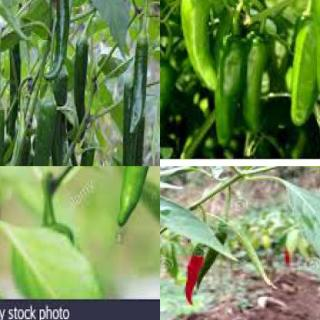green_chilli: (176, 0, 218, 92), (287, 18, 320, 125), (215, 41, 248, 148), (238, 38, 272, 132), (40, 0, 74, 81), (115, 167, 159, 226), (194, 229, 234, 290), (128, 42, 151, 133), (160, 55, 177, 159), (31, 100, 57, 166), (50, 78, 68, 165), (6, 49, 22, 138), (73, 35, 88, 129), (120, 83, 136, 165), (6, 136, 28, 166), (133, 118, 145, 166), (79, 144, 98, 166)
